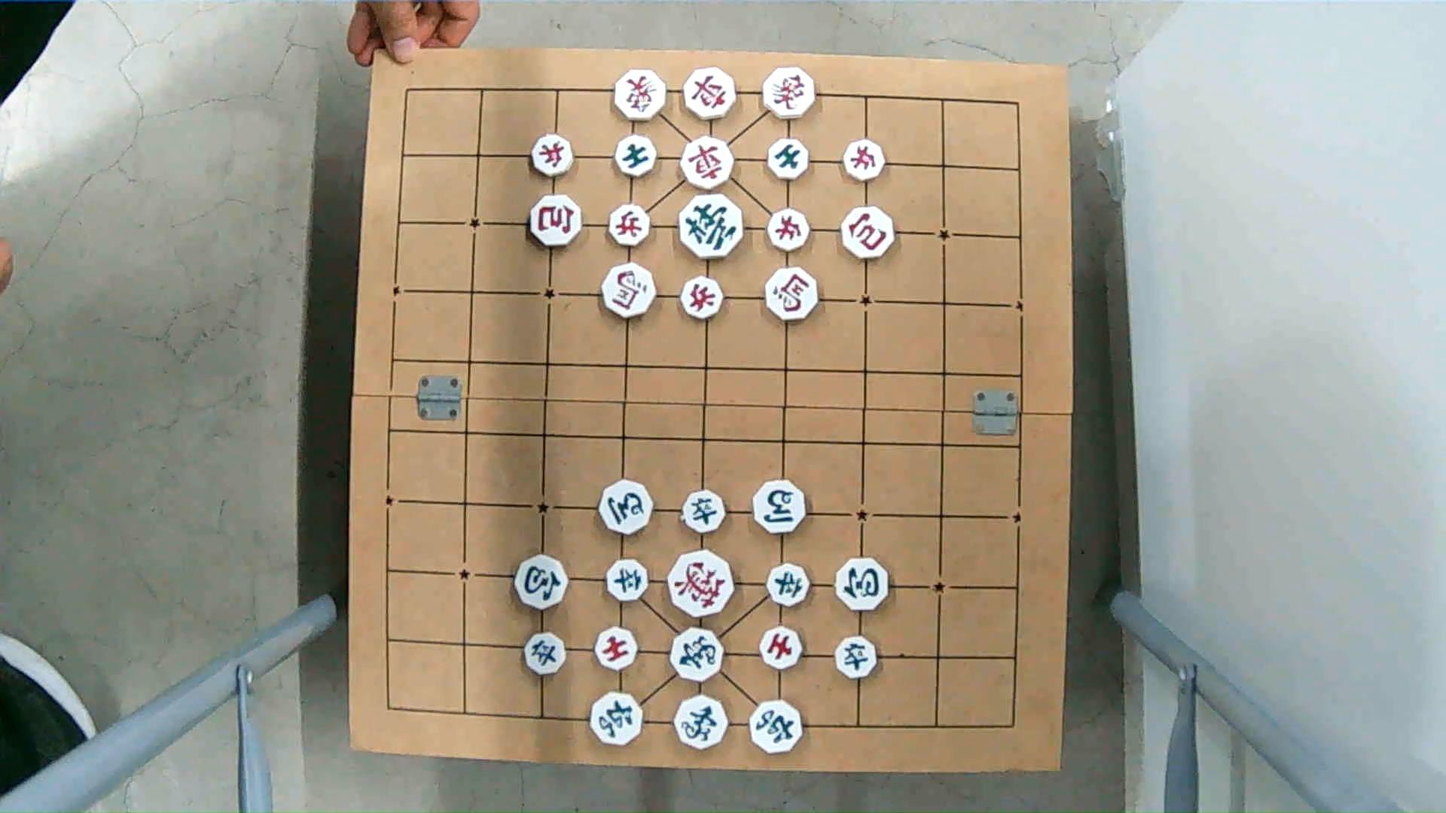cha_green: (585, 693, 645, 744), (746, 704, 806, 752)
cha_red: (676, 137, 735, 185), (681, 71, 737, 118)
jol_green: (679, 492, 728, 533), (520, 635, 569, 674), (834, 638, 881, 678), (604, 563, 652, 601), (768, 564, 810, 607)
jol_red: (766, 211, 813, 251), (679, 279, 726, 318), (604, 207, 652, 245), (525, 139, 573, 177), (840, 142, 888, 179)
ma_green: (598, 483, 656, 532), (752, 483, 810, 532)
ma_red: (599, 263, 658, 321), (764, 269, 822, 318)
po_green: (834, 561, 892, 610), (513, 559, 571, 605)
po_red: (838, 210, 896, 259), (529, 198, 587, 247)
sa_green: (766, 139, 812, 178), (614, 136, 660, 174)
sa_red: (759, 629, 808, 667), (597, 627, 638, 671)
sang_green: (672, 697, 731, 748), (669, 632, 728, 682)
sang_red: (760, 72, 819, 119), (615, 73, 673, 120)
wang_green: (677, 196, 744, 253)
wang_red: (668, 552, 738, 615)
